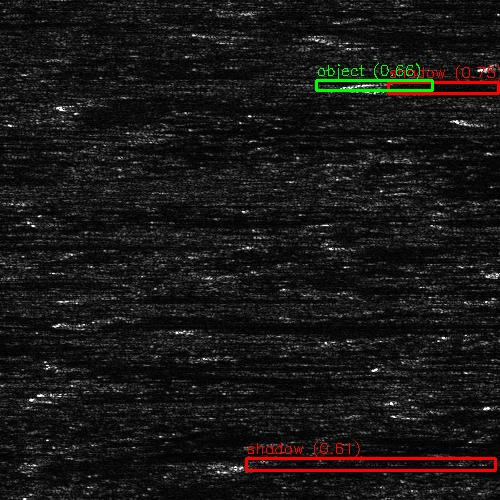rock: (214, 27, 443, 46), (320, 75, 445, 94), (421, 379, 500, 408), (6, 358, 131, 375), (178, 459, 283, 472), (352, 406, 457, 419), (119, 322, 234, 333), (119, 123, 212, 136), (336, 395, 441, 406), (406, 115, 500, 126), (16, 195, 89, 206), (53, 292, 126, 299), (221, 8, 284, 15), (32, 393, 73, 402), (466, 61, 500, 70), (449, 402, 500, 407), (335, 16, 366, 21), (52, 319, 73, 326), (389, 157, 420, 160)
shadow: (69, 358, 301, 375), (329, 27, 500, 46), (231, 459, 475, 472), (166, 123, 382, 136), (63, 319, 445, 326), (177, 322, 413, 333), (383, 75, 500, 94), (53, 393, 282, 402), (53, 195, 201, 206), (90, 292, 320, 299), (405, 406, 500, 419), (389, 395, 500, 406), (0, 240, 120, 249), (253, 8, 326, 15), (0, 131, 101, 136), (0, 156, 90, 161), (0, 141, 49, 150), (464, 115, 500, 126), (351, 16, 426, 21), (405, 157, 500, 160)
